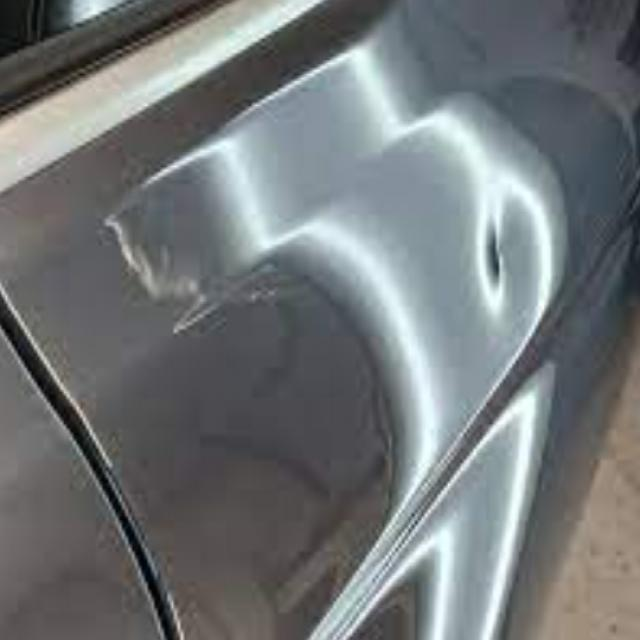dents: (437, 191, 582, 362)
